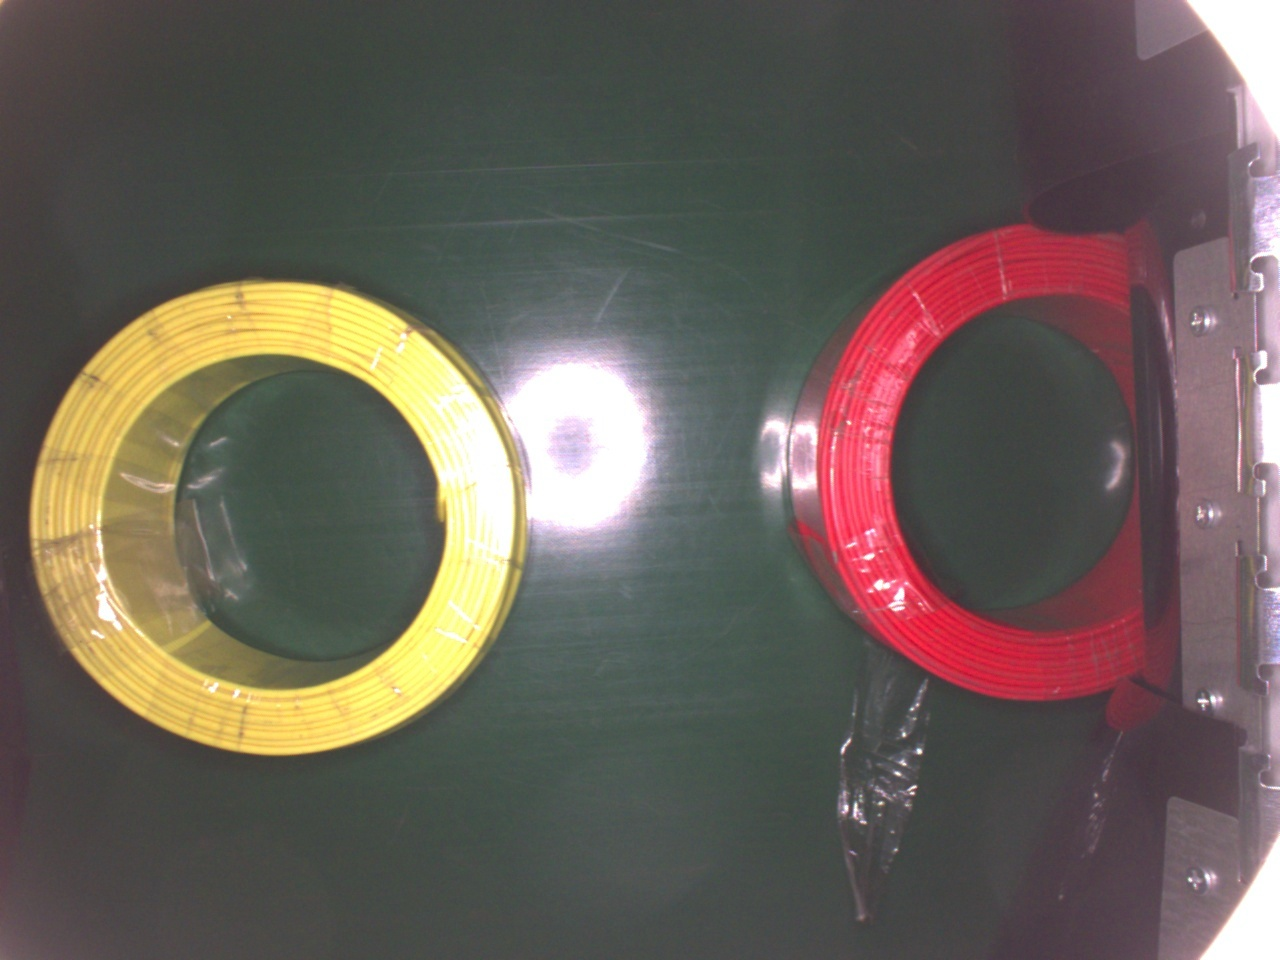red: (789, 212, 1165, 698)
yellow: (28, 279, 530, 759)
